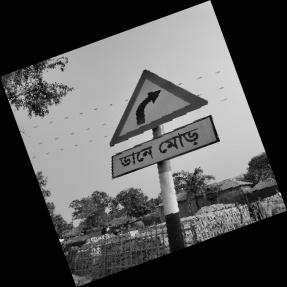Right-turn: (108, 68, 217, 181)
